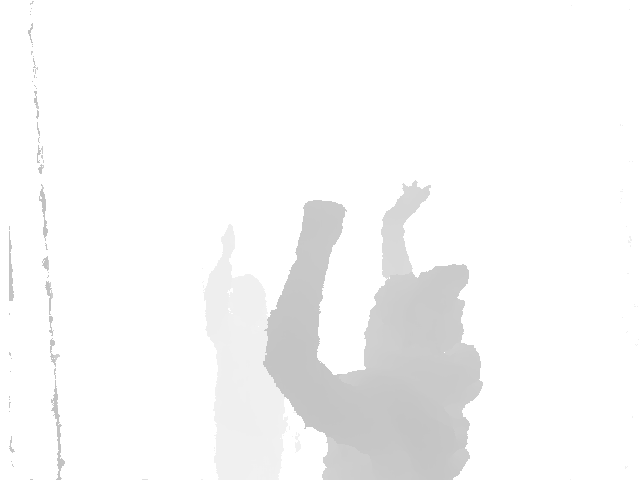hand: (376, 178, 433, 230), (219, 221, 238, 262)
head: (362, 260, 473, 373), (228, 270, 267, 334)
person: (268, 175, 479, 480), (207, 217, 284, 480)
